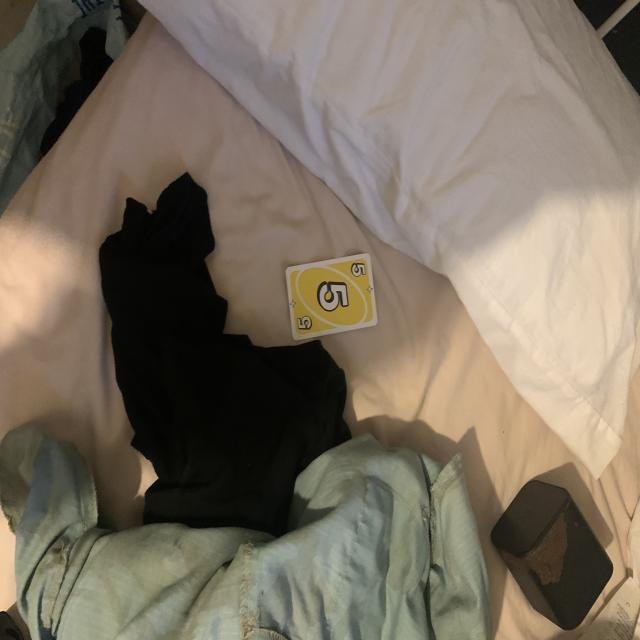lyellow-5: (350, 262, 367, 280)
